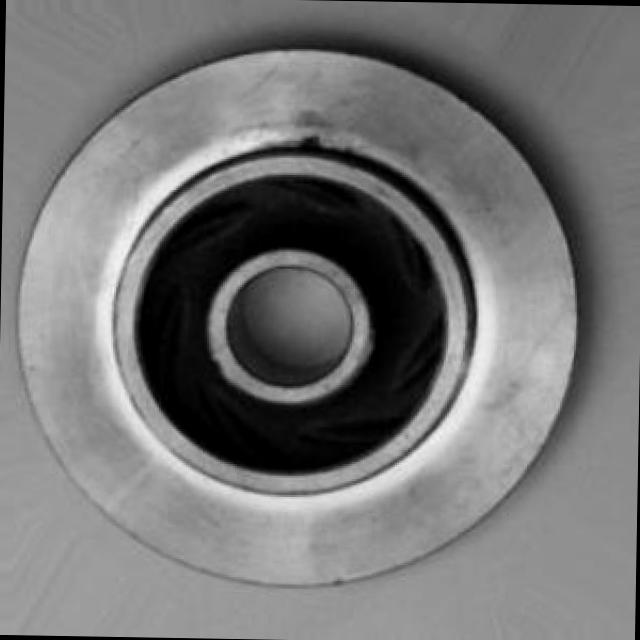Defect: (278, 113, 348, 172)
